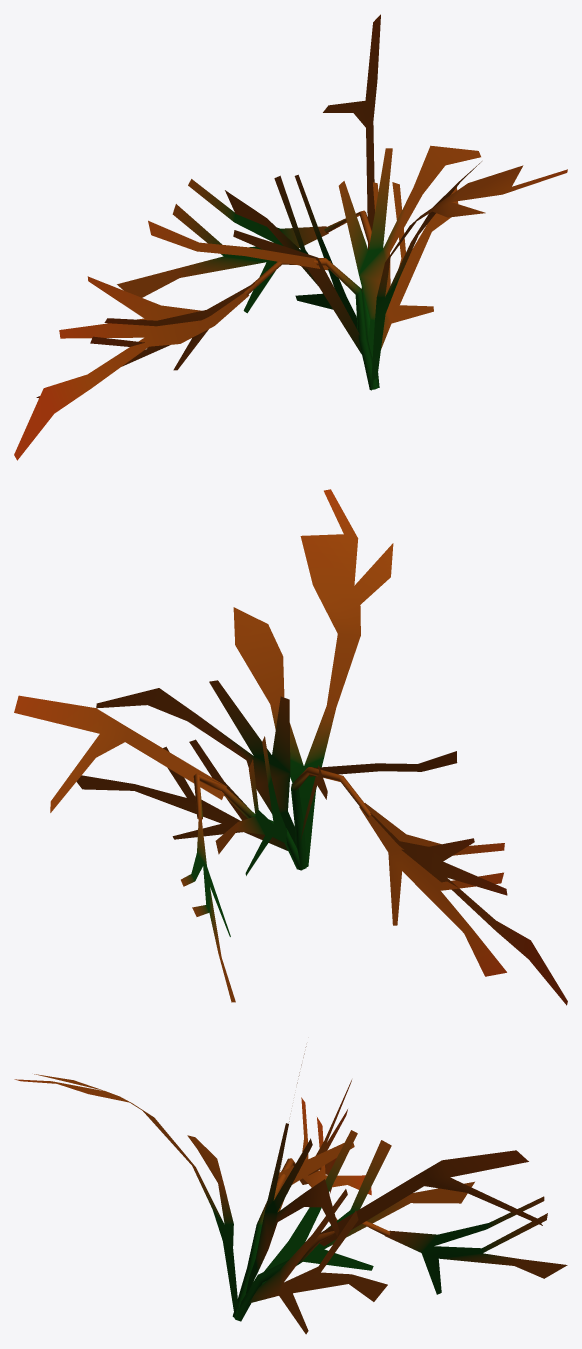
The model's file is Acacia_LOD0_Var9_semkO.fbx.
The picture shows the model from 3 angles, top to bottom: view 1: azimuth 30°, elevation 25°; view 2: azimuth 150°, elevation 25°; view 3: azimuth 270°, elevation 25°; orthographic projection.
Parts seen in each view (by area): view 1: _2954_Var9_LOD0; view 2: _2954_Var9_LOD0; view 3: _2954_Var9_LOD0.
Boxes of the visible parts, x1,y1,x2,y2 form: _2954_Var9_LOD0: (14,14,567,460); _2954_Var9_LOD0: (14,489,567,1005); _2954_Var9_LOD0: (14,1046,567,1334).
Size of the model in its own units: 64.93 by 40.43 by 65.7.
